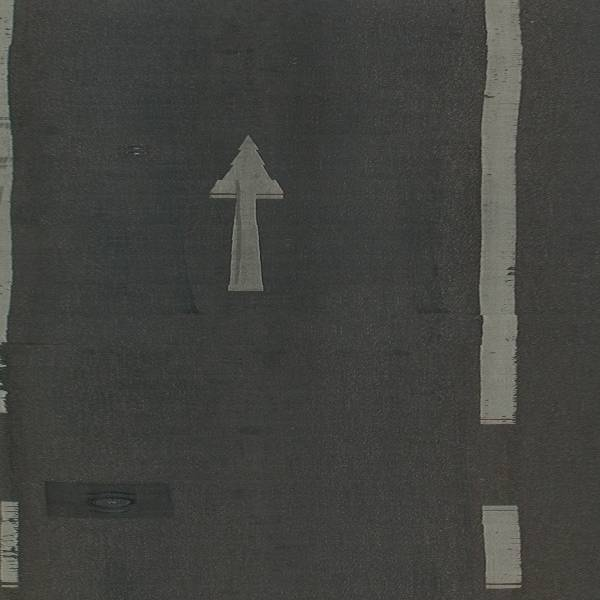road_damage: (33, 474, 188, 529)
